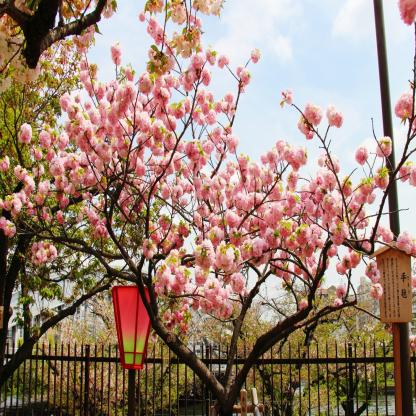YaeSakura: (34, 0, 416, 415), (0, 0, 110, 416), (204, 286, 349, 416), (108, 289, 195, 416), (33, 284, 116, 416), (332, 288, 390, 416)
